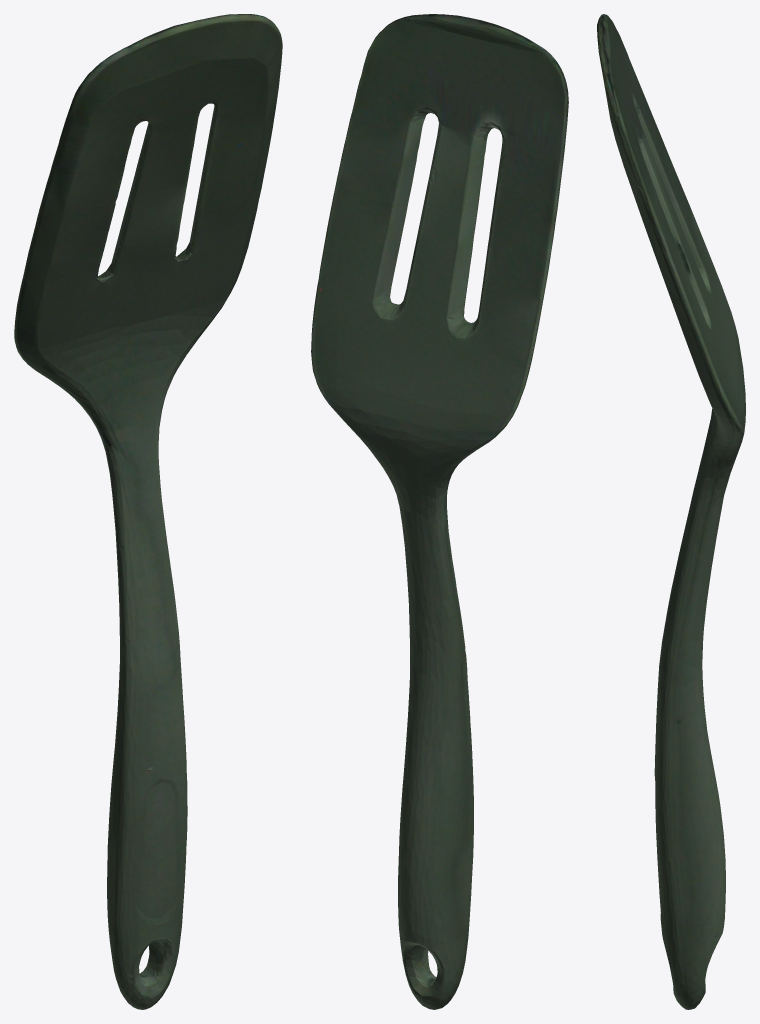
Rendered from Scan.obj.
3 renders of one model, left to right at view 1: azimuth 30°, elevation 25°; view 2: azimuth 150°, elevation 25°; view 3: azimuth 270°, elevation 25°, orthographic. The views are drawn at different scales.
Parts seen in each view (by area): view 1: Scan.015; view 2: Scan.015; view 3: Scan.015.
Part boxes in pixels (x1,y1,x2,y2): Scan.015: (14, 14, 282, 1009); Scan.015: (311, 14, 568, 1009); Scan.015: (597, 14, 745, 1009).
Size of the model in its own units: 0.057 by 0.2398 by 0.0333.
1 material, 1 textured.
